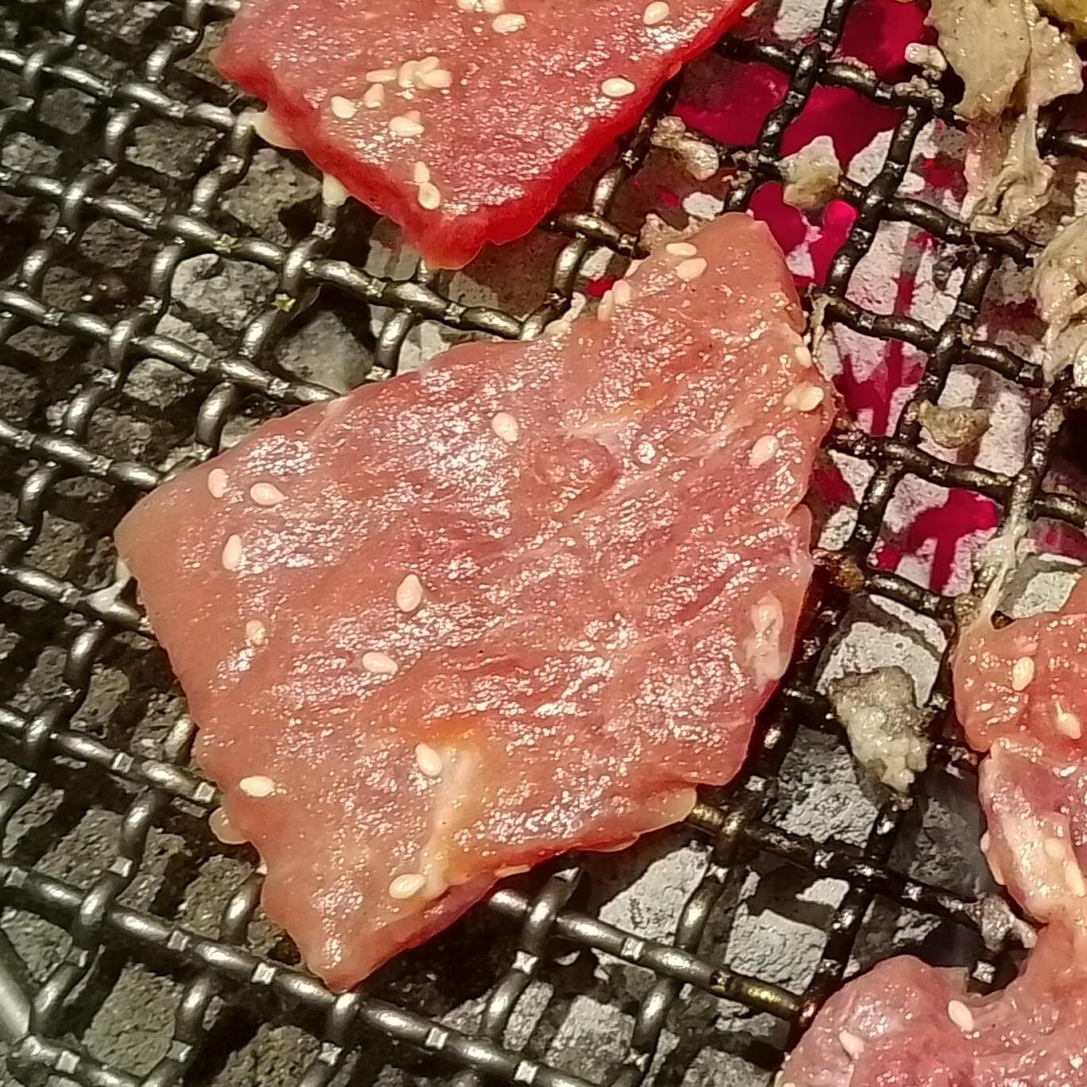Undercooked: (111, 209, 847, 996), (211, 0, 756, 272)
